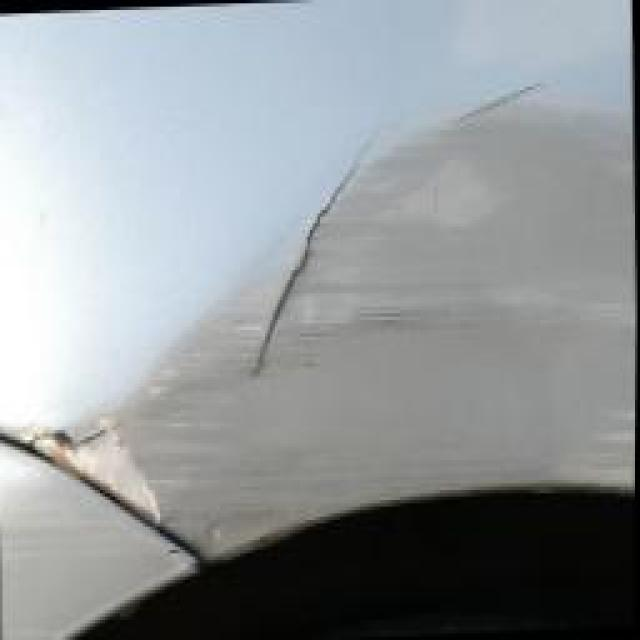Fender: (8, 43, 557, 567)
